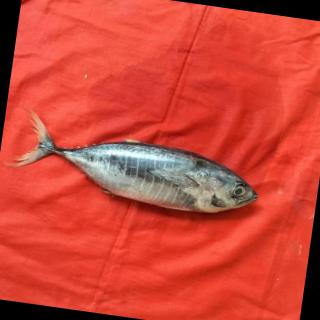Ikan: (4, 94, 276, 239)
